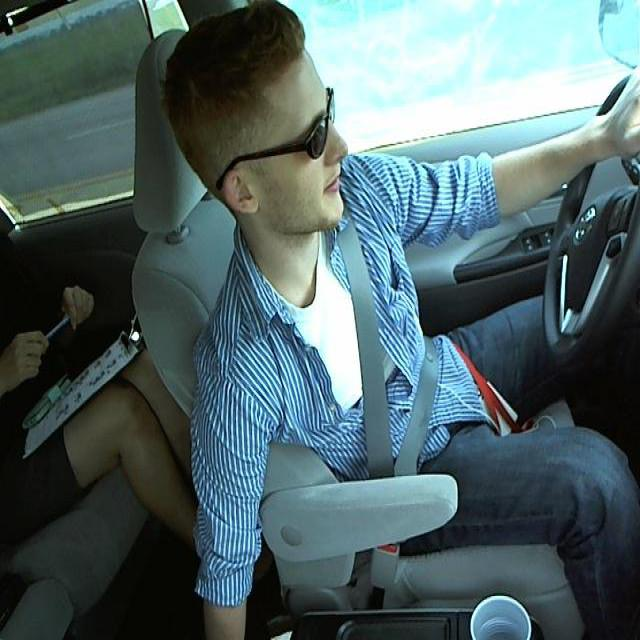seatbelt: (335, 243, 438, 496)
